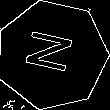N_E: (22, 30, 82, 80)
